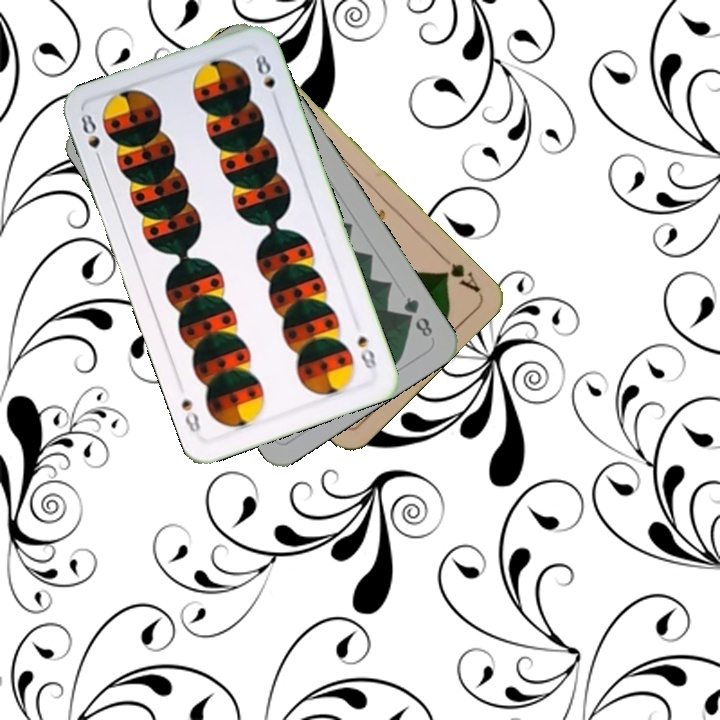G8: (399, 292, 436, 340)
GA: (435, 250, 484, 296)
S8: (76, 109, 105, 167), (353, 331, 379, 372)
